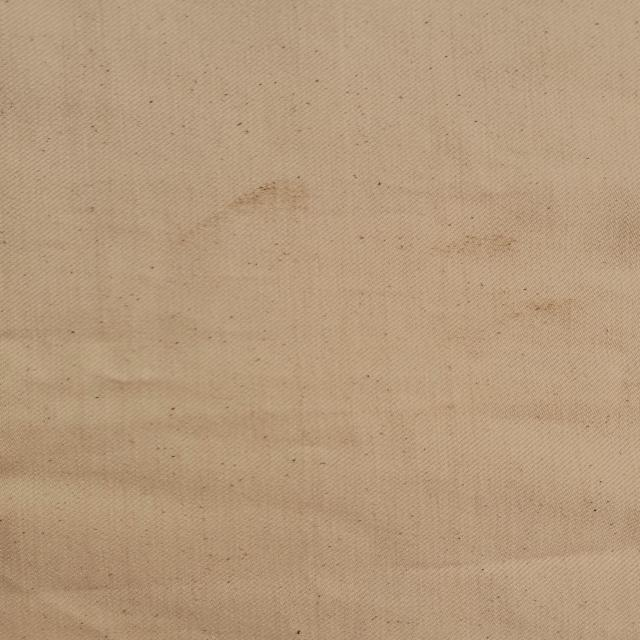taaaches: (192, 176, 330, 243), (429, 224, 534, 262), (498, 292, 592, 326)
